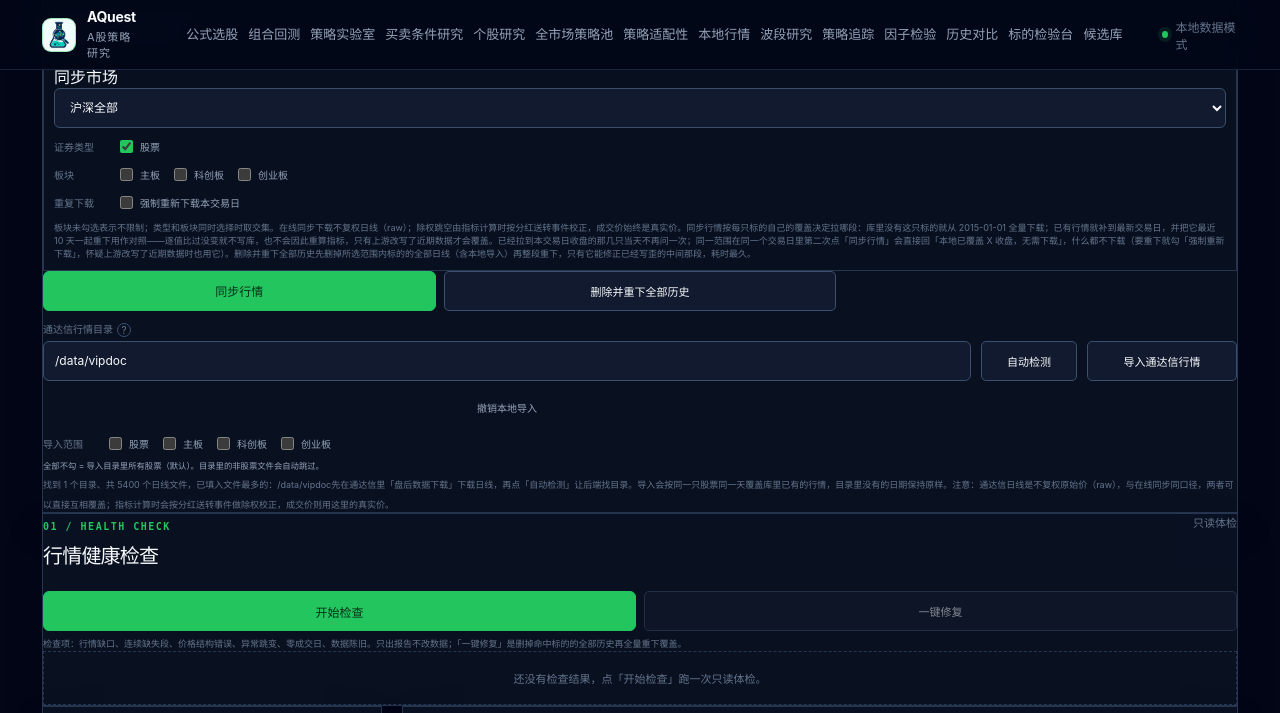
Test: MarketDataPage › renders the local import report with its own keys
(page scrolled)
Click the button with test id "market-local-import": x=1162, y=361 1087,341 -> 1237,381
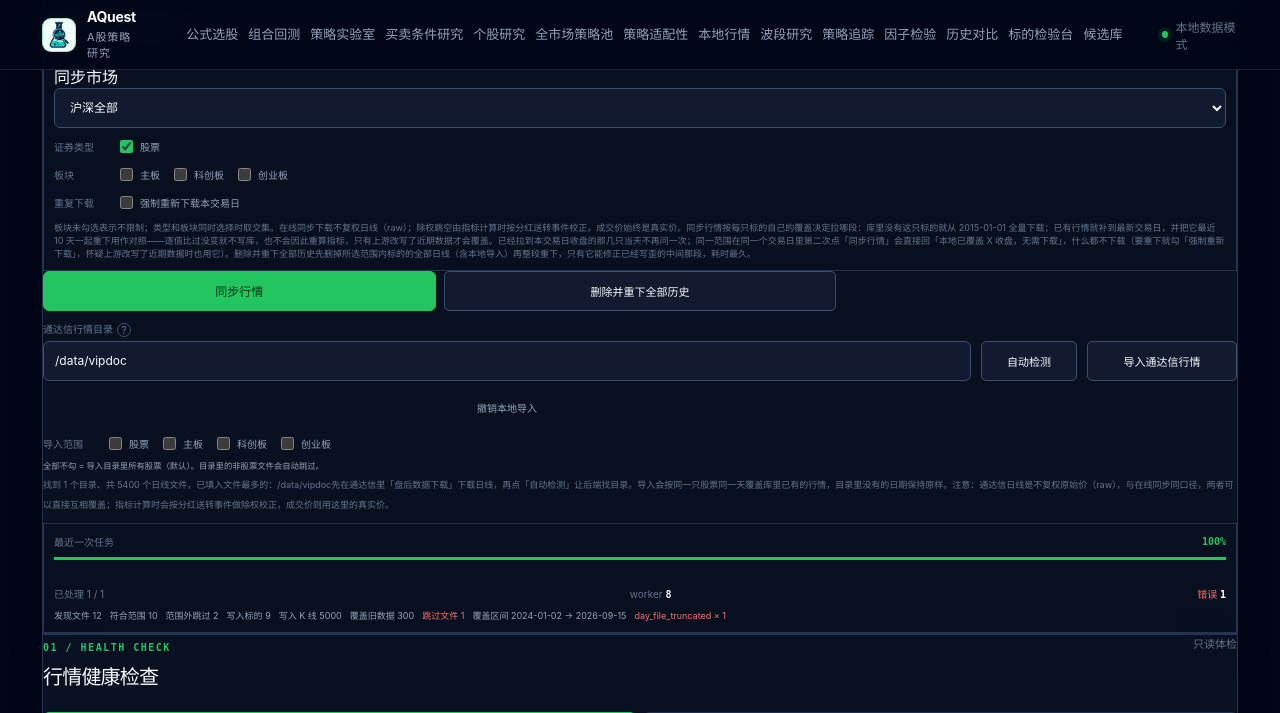
Check: the element with test id "local-import-result" shows "写入 K 线 5000", box 279,610 -> 342,621
Check: the element with test id "local-import-result" shows "范围外跳过 2", box 166,610 -> 219,621
Check: the element with test id "local-import-result" shows "day_file_truncated × 1", box 634,610 -> 726,621
